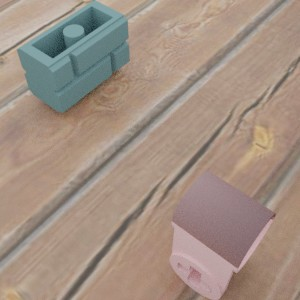lego: (169, 171, 275, 299), (16, 0, 129, 113)
